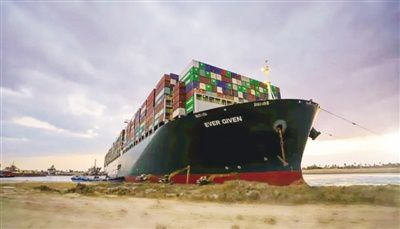Cargoship: (101, 57, 321, 186)
otherboat: (66, 161, 123, 183)
